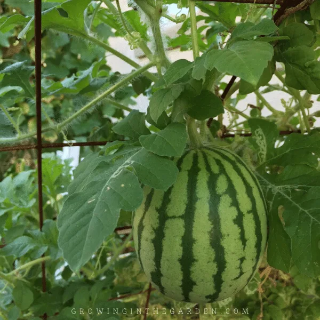dua_hau: (130, 143, 277, 304)
